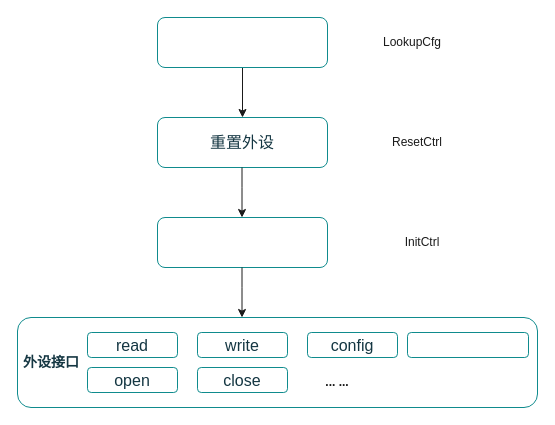
Some shapes in this 555 by 425 pixel diagram are drawn without their labels. The centre of each missing label's shape, as x and y in pixels:
irq_handler: the point at 467,345
初始化外设配置: the point at 242,242
获取外设配置: the point at 242,42
